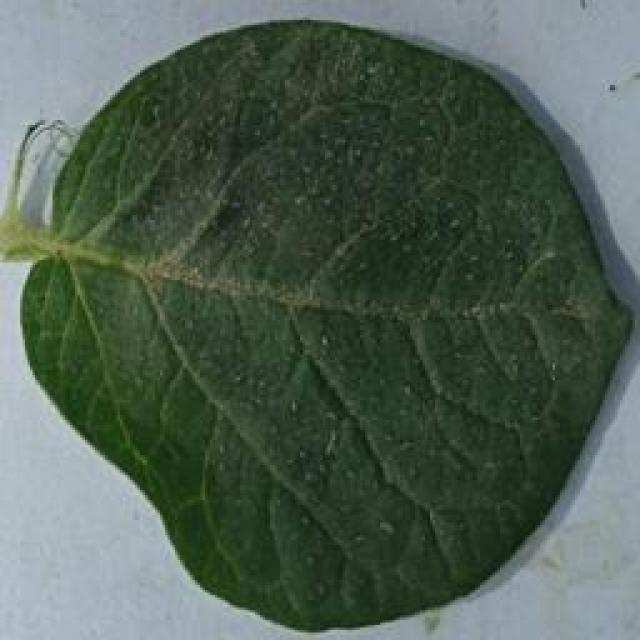Potato_Healthy: (3, 1, 636, 628)
